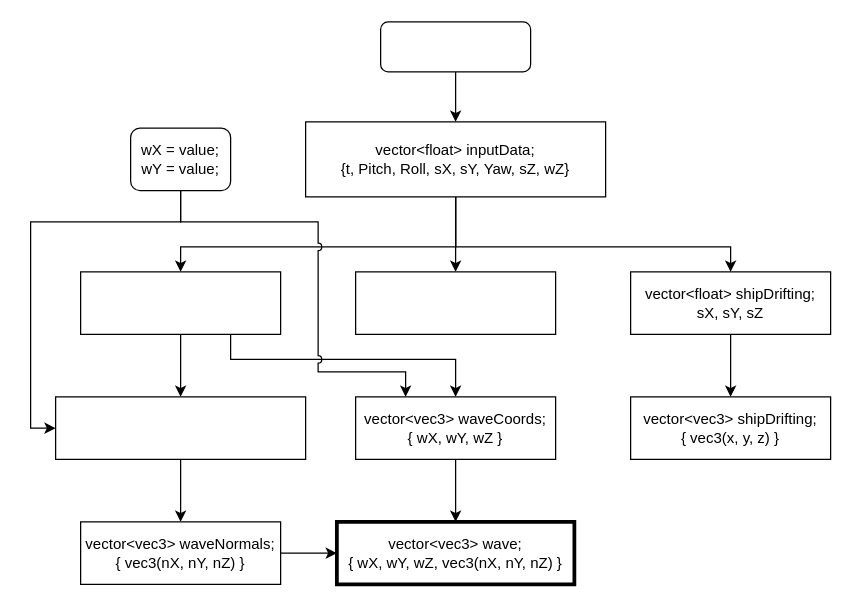
This 853x608 diagram has some shape labels left out. The centre of each missing label's shape, as x and y in pixels:
"TestData.txt" belongs at (x=455, y=46).
"vector<float> shipRotation; { Pitch, Roll, Yaw }" belongs at (x=455, y=302).
"vector<float> waveHeight; { wZ }" belongs at (x=180, y=302).
"vector<vec3> waveCoordsUnique; { wX, wY, wZ }" belongs at (x=180, y=427).
